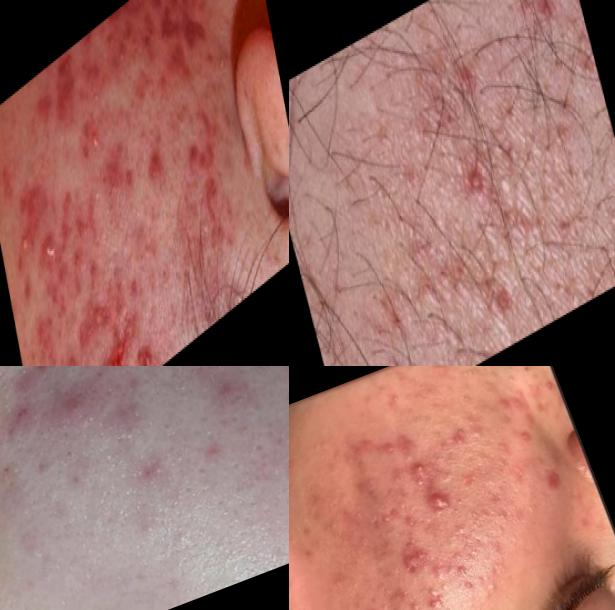acne_scars: (195, 163, 227, 231)
blackhead: (170, 92, 194, 152)
folliculitis: (467, 166, 497, 212), (210, 34, 231, 81), (14, 216, 33, 263)
milium: (86, 72, 106, 114)
papular: (37, 367, 108, 430), (388, 430, 429, 471), (537, 465, 570, 498), (446, 423, 478, 455), (169, 1, 198, 29), (533, 1, 560, 31), (504, 386, 531, 416), (392, 585, 420, 610), (490, 394, 515, 418), (374, 509, 400, 532), (514, 427, 538, 450), (539, 373, 562, 397), (379, 439, 401, 460), (403, 514, 422, 533), (430, 367, 453, 377), (355, 605, 384, 610)
purulent: (82, 111, 107, 165), (422, 579, 454, 610), (407, 453, 438, 483), (409, 474, 433, 495), (452, 560, 474, 582), (459, 576, 481, 596), (406, 598, 423, 610)
sebo-crystan-conglo: (388, 543, 434, 583), (420, 486, 462, 521), (103, 321, 132, 367), (40, 227, 64, 279), (133, 328, 160, 367)
whitehead: (457, 406, 492, 454), (448, 518, 476, 545), (427, 558, 453, 583), (475, 505, 498, 527), (466, 507, 485, 528), (459, 367, 485, 382), (387, 392, 407, 411), (485, 367, 504, 385), (410, 412, 426, 428), (460, 392, 476, 408)
